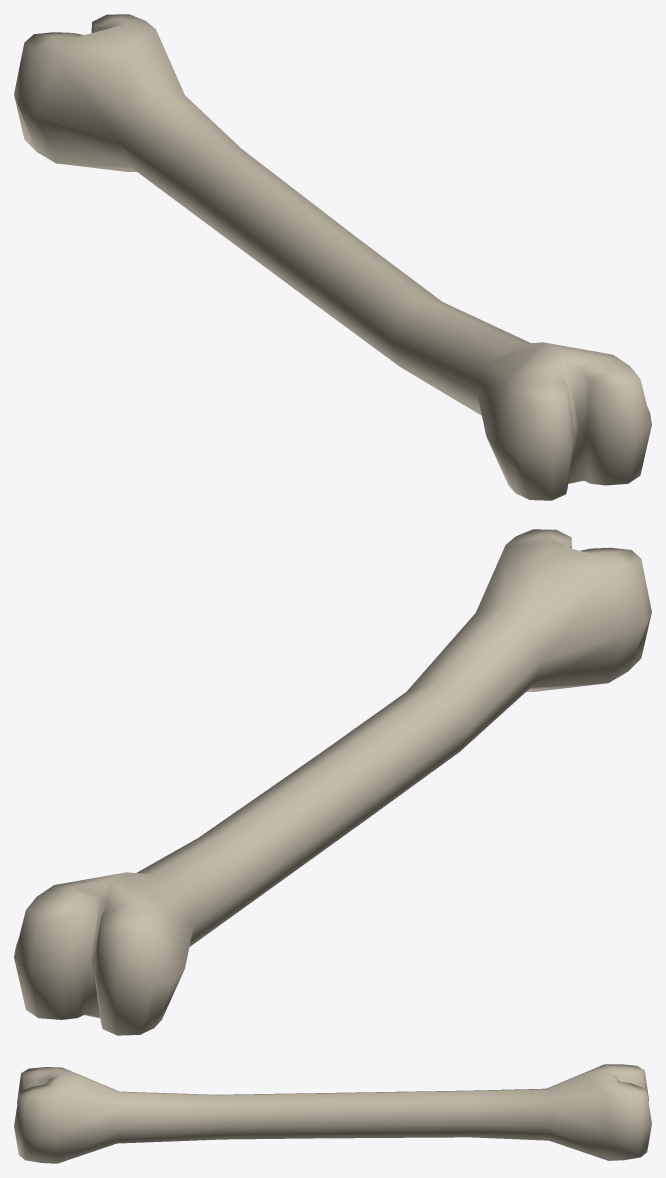
File: Bone_02.fbx
The picture shows the model from 3 angles, top to bottom: view 1: azimuth 30°, elevation 25°; view 2: azimuth 150°, elevation 25°; view 3: azimuth 270°, elevation 25°; orthographic projection. The views are drawn at different scales.
Parts seen in each view (by area): view 1: Bone_02; view 2: Bone_02; view 3: Bone_02.
Part boxes in pixels (x1,y1,x2,y2): Bone_02: (14, 14, 651, 500); Bone_02: (14, 529, 651, 1035); Bone_02: (14, 1064, 651, 1163).
Size of the model in its own units: 0.0659 by 0.0538 by 0.3716.
